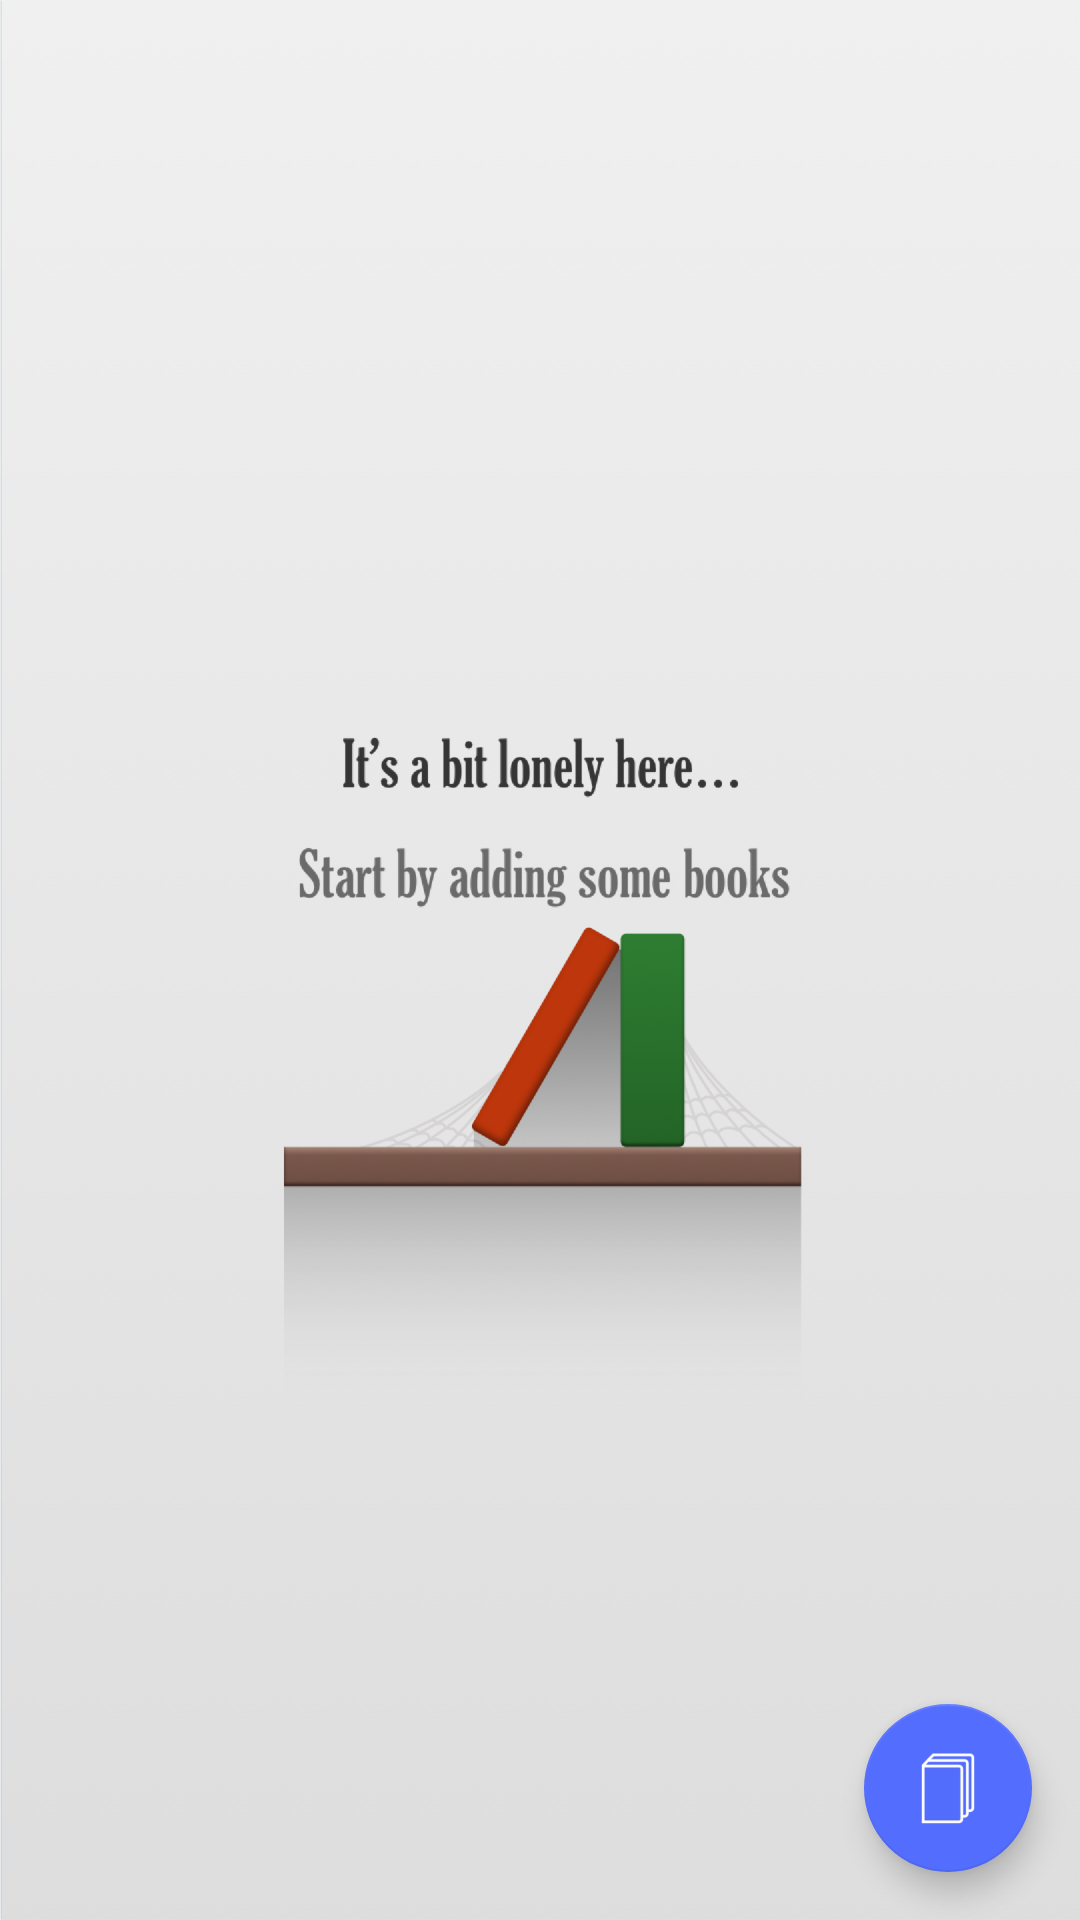

Screen size 1080px×1920px. Icon name, then its center in pixels as [x,y]:
add book: [948,1788]
